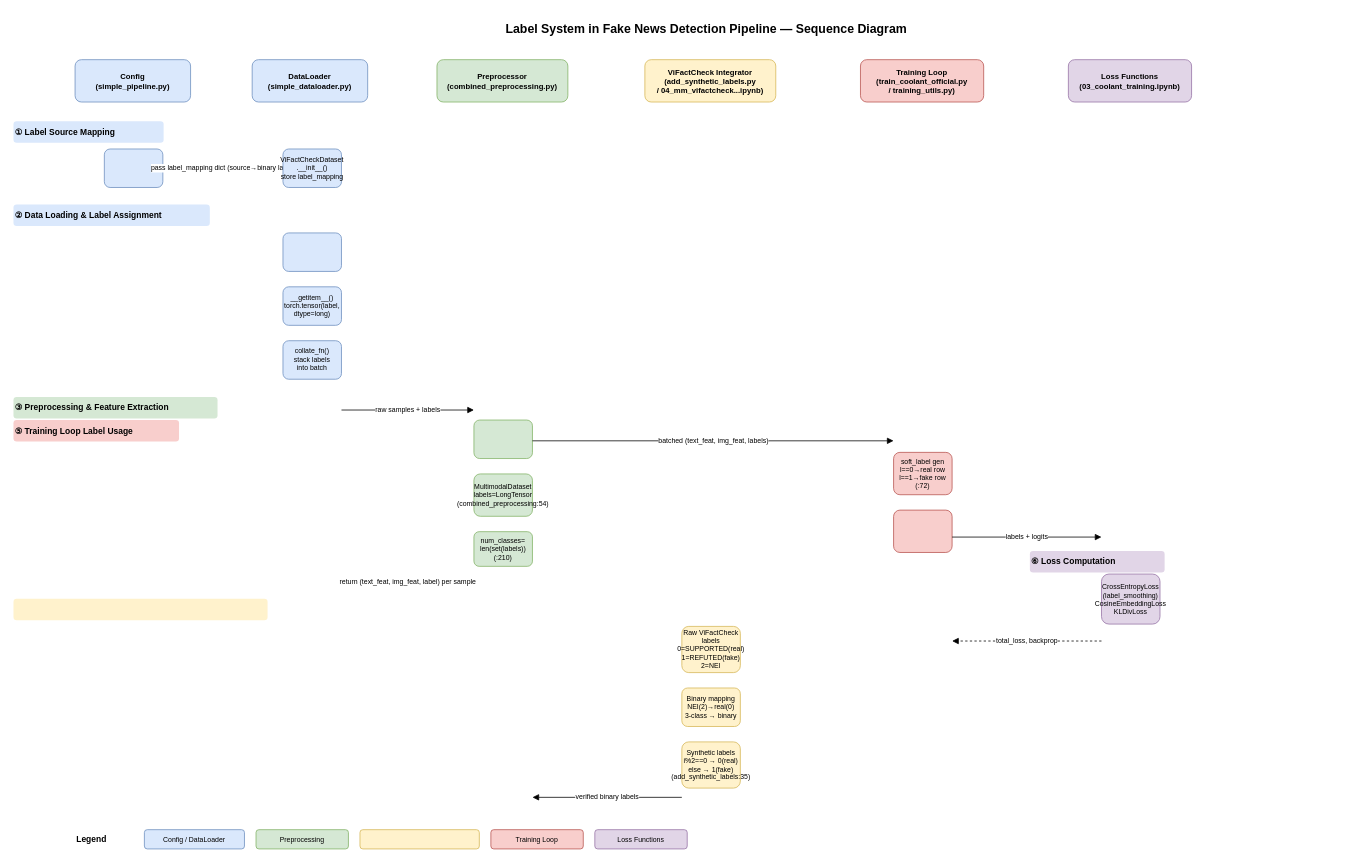
Image size: 1366x862. Some labels were removed from this diagram. Here are the shapes that lost their labels. From the top down, the centre of each, then its label:
point 133,167: define label_mapping {source→0/1}
point 311,251: _load_data() parse ViFactCheck JSON
point 502,439: CombinedPreprocessor extract text & image features
point 922,530: binary pair labels zeros=real pairs ones=fake pairs (training_utils:58)
point 140,609: ④ ViFactCheck Verification Label Integration
point 419,839: ViFactCheck Integration
